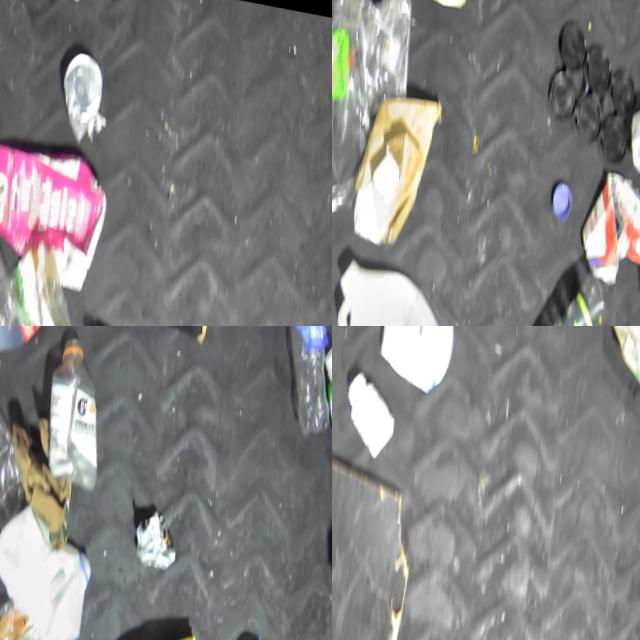can: (56, 40, 107, 119), (130, 496, 176, 565)
milk_jug: (0, 494, 93, 640), (332, 256, 469, 326), (374, 326, 456, 390)
non_white_jug: (311, 326, 332, 507)
plastic_bottle: (502, 257, 603, 326), (274, 326, 332, 430), (0, 368, 30, 528), (332, 0, 371, 114)
